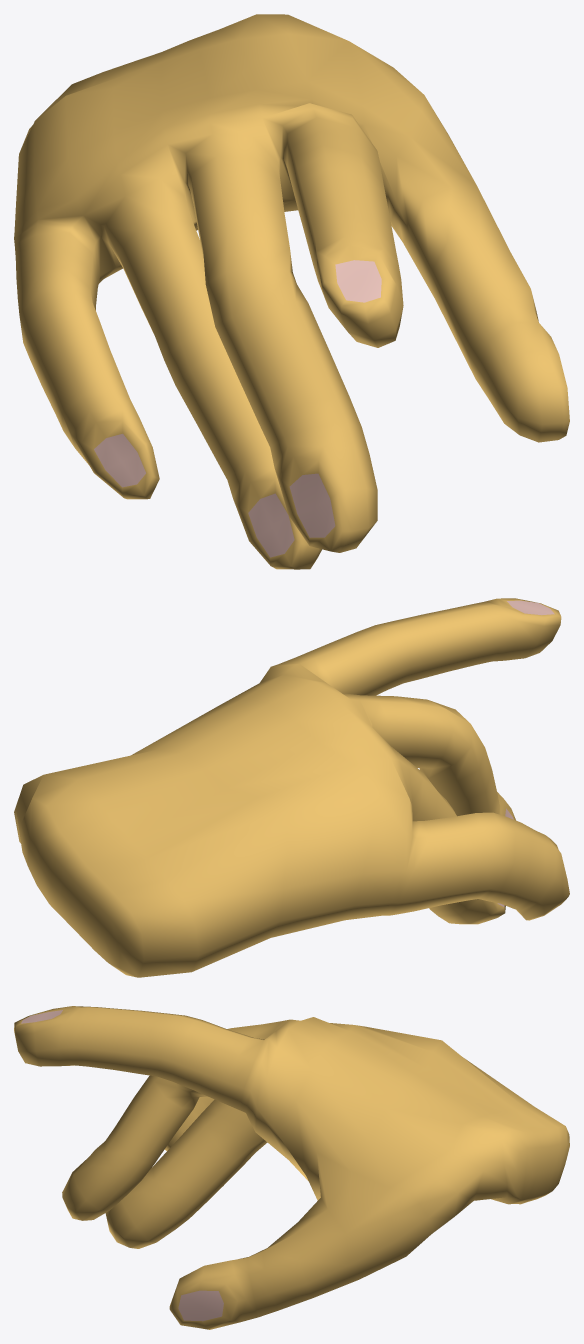
The model's file is Hand_Taxi.fbx.
3 views of the same model, one above another, from view 1: azimuth 30°, elevation 25°; view 2: azimuth 150°, elevation 25°; view 3: azimuth 270°, elevation 25° (orthographic). The views are drawn at different scales.
Parts seen in each view (by area): view 1: Hand.001; view 2: Hand.001; view 3: Hand.001.
Part boxes in pixels (x1,y1,x2,y2): Hand.001: [14, 14, 569, 569]; Hand.001: [14, 598, 569, 977]; Hand.001: [14, 1006, 569, 1329].
Bounding box in the file's own units: 461 × 638 × 318.
